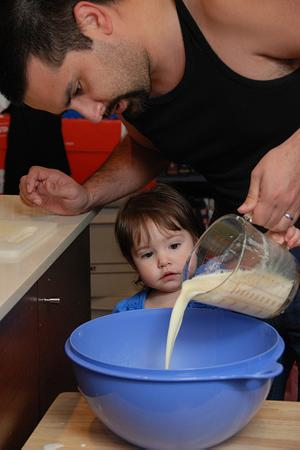person: (1, 3, 300, 401)
